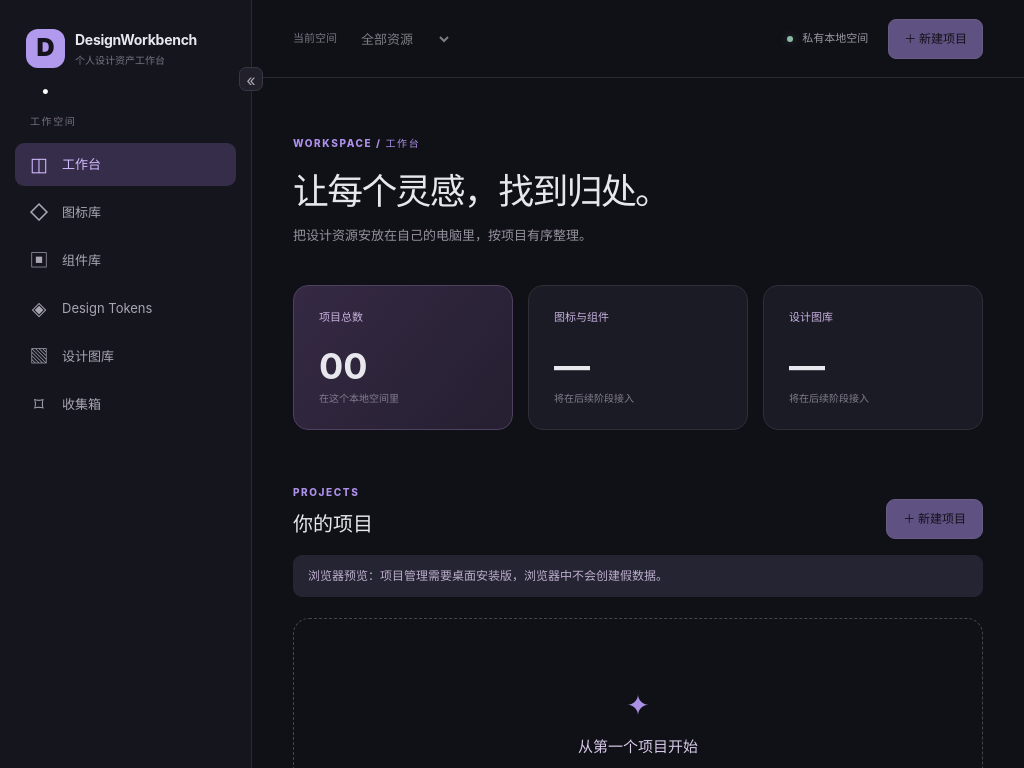
Test: S2 library exposes search and import controls without browser-only fake assets
Click the link "◇ 图标库" at coordinates (65, 212), box left=29, top=201, right=101, bottom=224
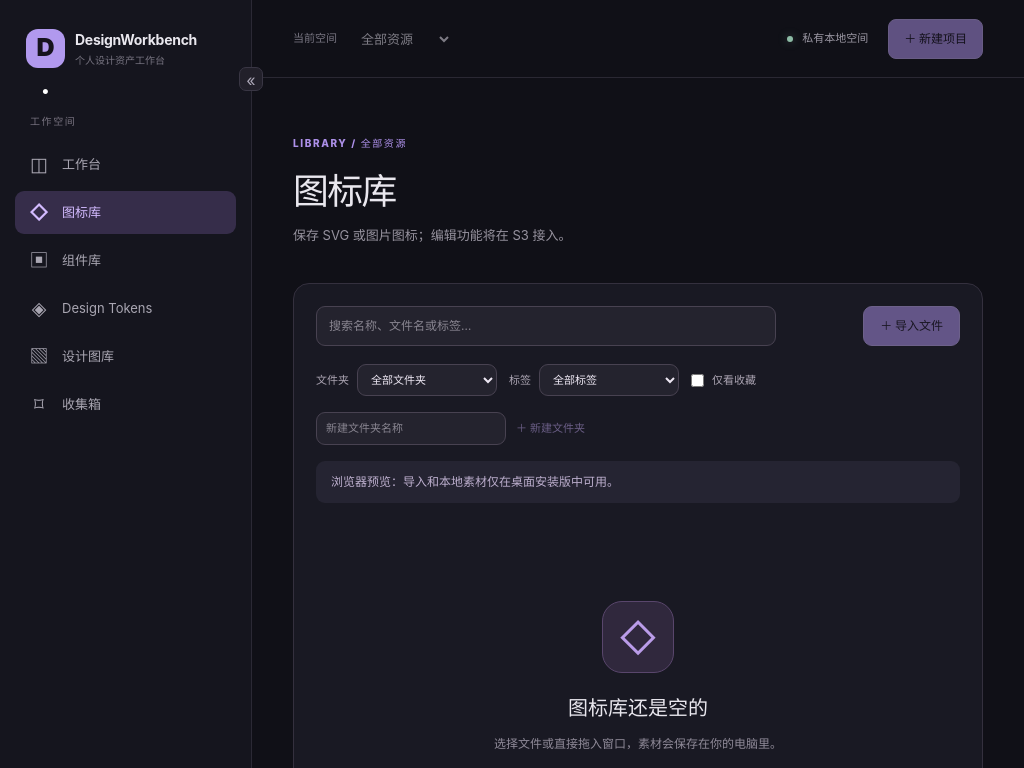
Now the search field named "搜索素材" is shown, box left=316, top=306, right=776, bottom=346
Now the button "＋ 导入文件" is disabled, box left=863, top=306, right=960, bottom=346
Now the heading "图标库还是空的" is shown, box left=568, top=694, right=708, bottom=724
